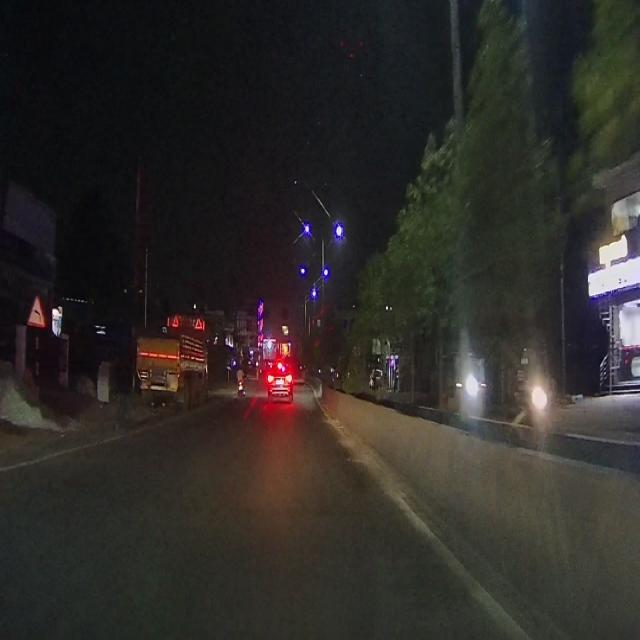left-hand-curve: (28, 291, 44, 327)
